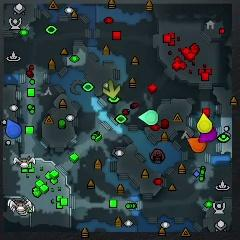p1: (5, 118, 21, 138)
p2: (139, 109, 158, 125)
p3: (198, 128, 217, 142)
p4: (197, 112, 212, 133)
p5: (187, 136, 207, 152)
x2: (104, 80, 120, 98)
